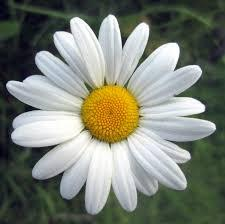chamomile: (22, 37, 183, 201)
